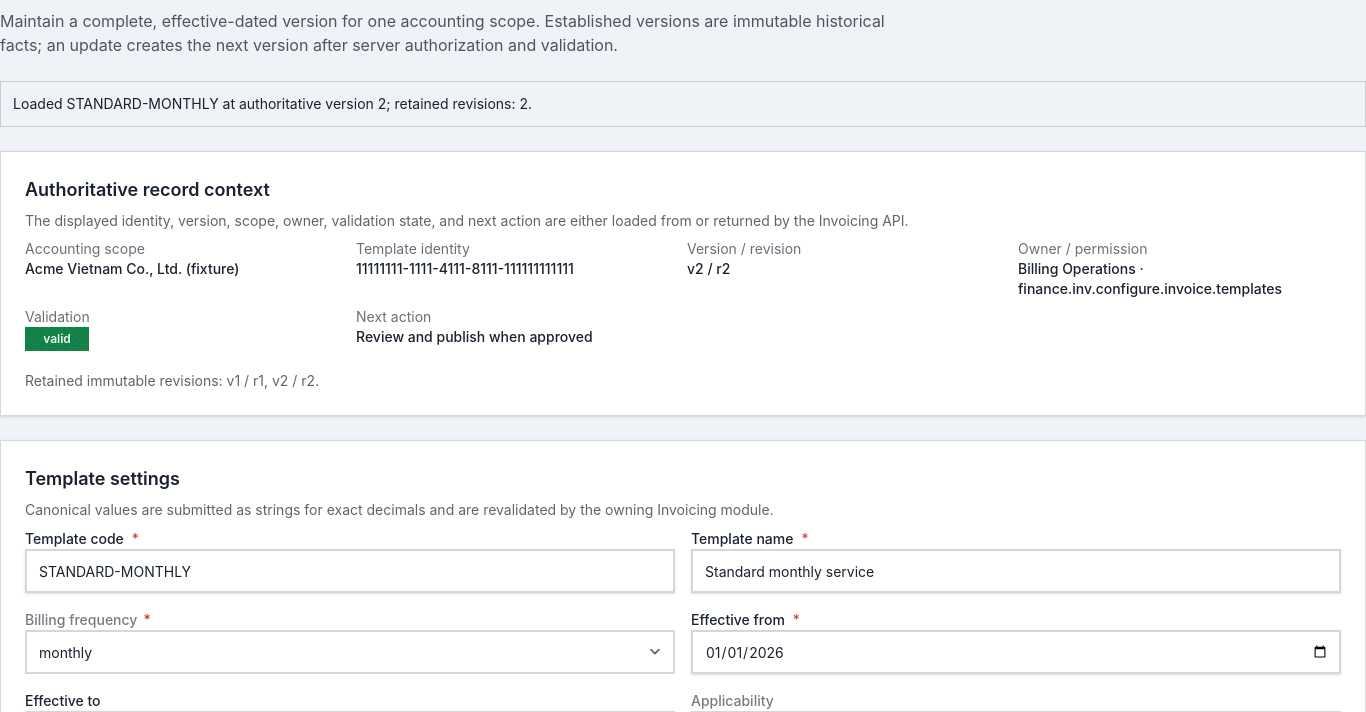
Test case: invoice-template workspace › shows an accessible version conflict and preserves the reviewed form
Replace the text in the field showing "Standard monthly service" with "Reviewed replacement" at (1016, 571), box [691, 549, 1341, 593]
(page scrolled)
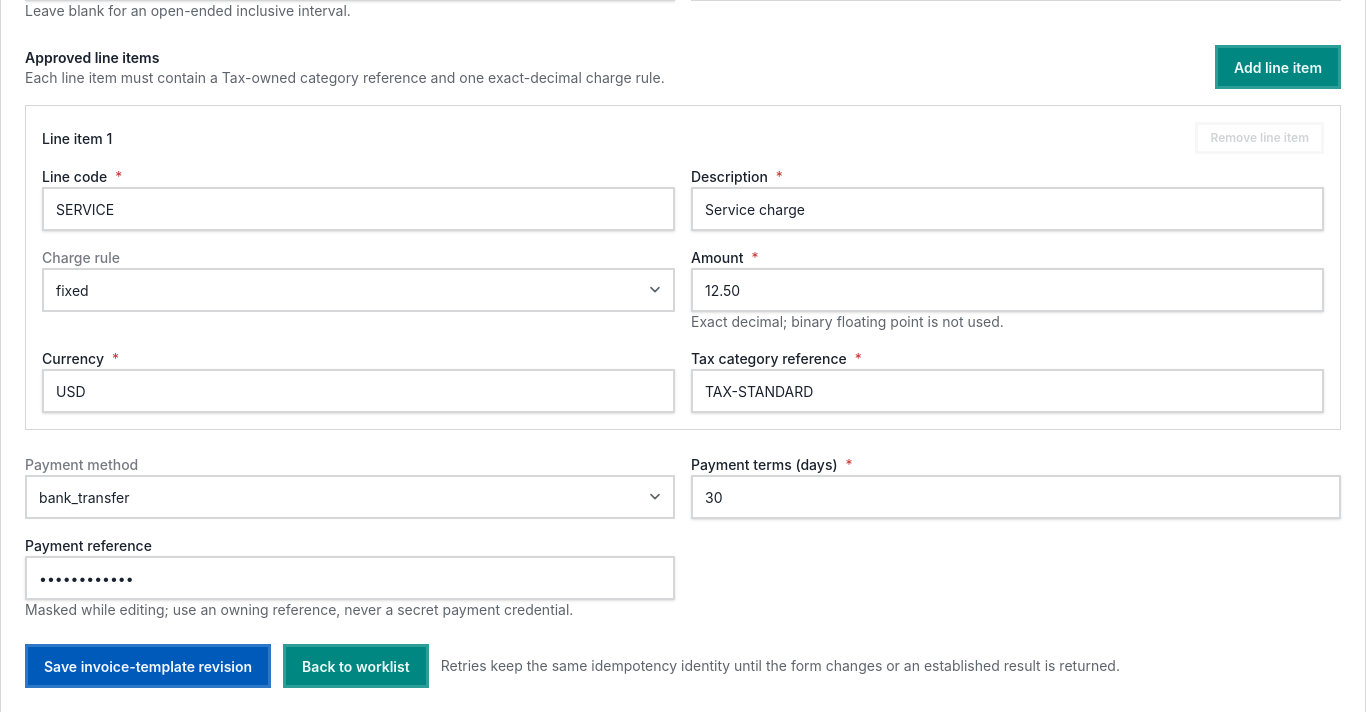
Click the button "Save invoice-template revision" at (148, 666), box [25, 644, 271, 688]
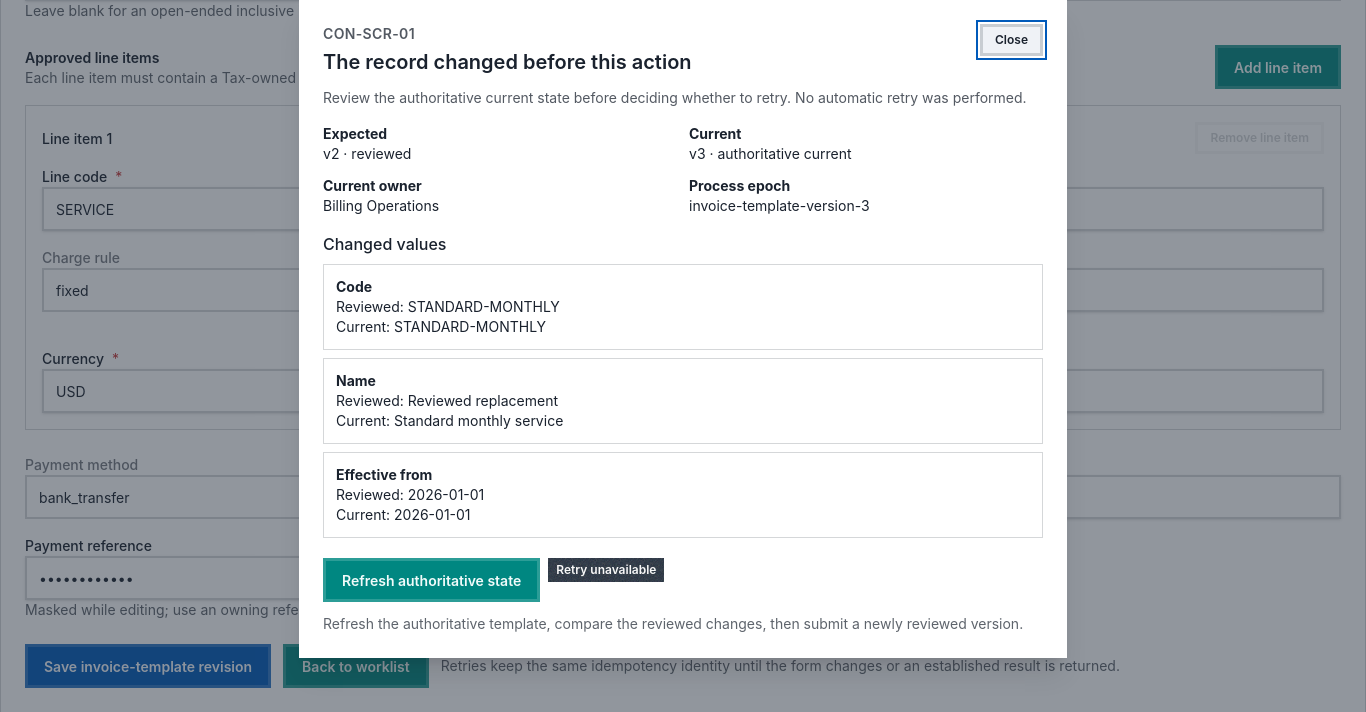
expect the dialog shows "record changed before this action": met, box [323, 50, 692, 74]
expect the text "Refresh the authoritative template" is shown: met, box [323, 615, 1023, 632]
